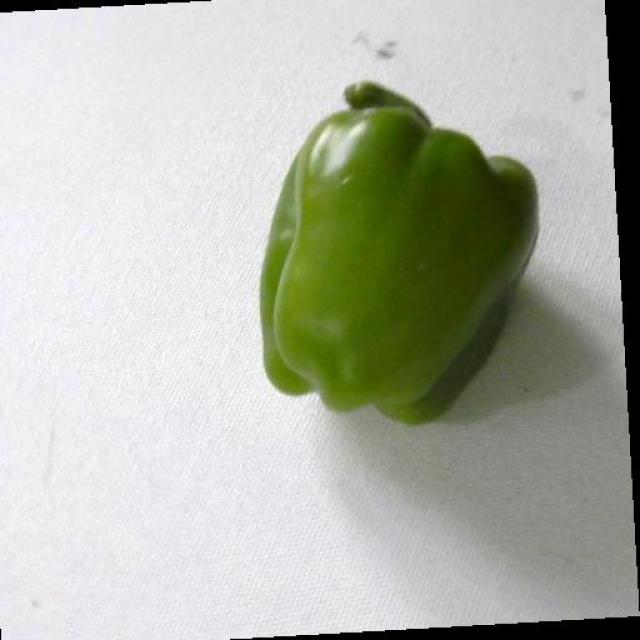Fresh_Capsicum: (285, 88, 527, 431)
